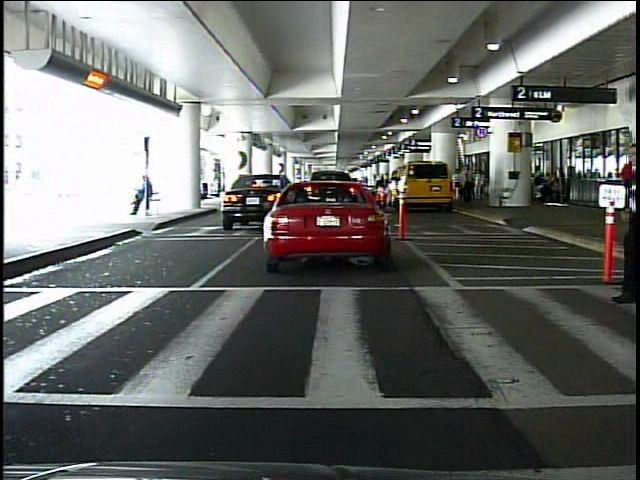person: (609, 140, 640, 305), (621, 155, 633, 215)
